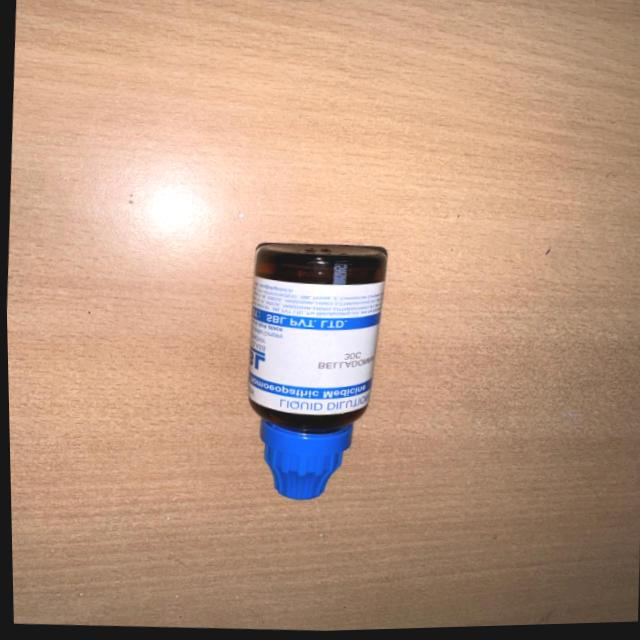medicine: (214, 223, 404, 509)
